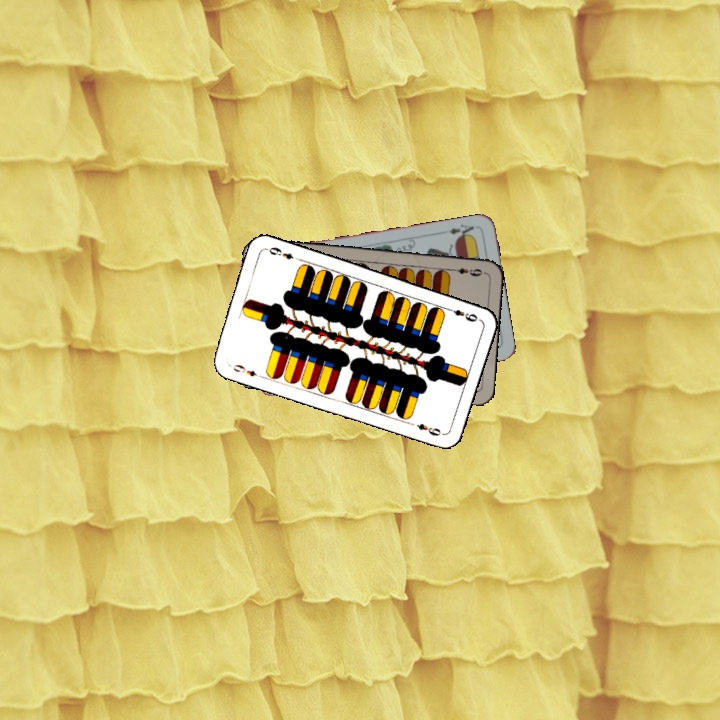E9: (225, 360, 265, 380), (442, 304, 480, 324), (446, 264, 487, 279)
EA: (445, 220, 476, 241)
